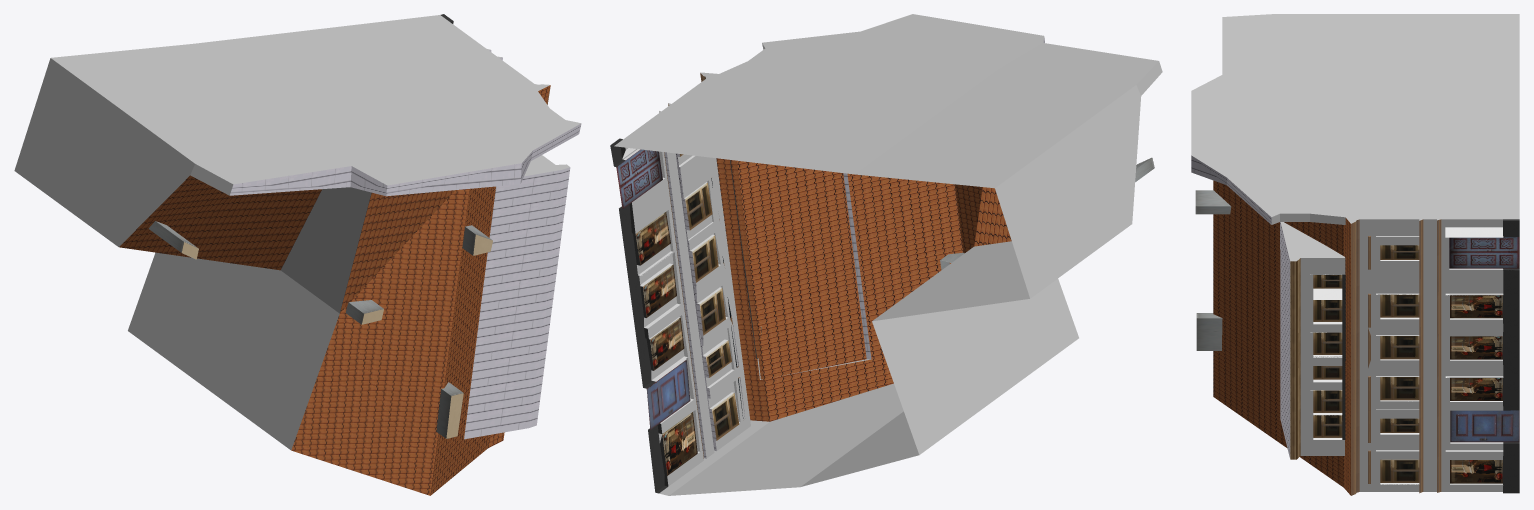
Rendered from Suur-Karia_14-origo.obj.
3 renders of one model, left to right at view 1: azimuth 30°, elevation 25°; view 2: azimuth 150°, elevation 25°; view 3: azimuth 270°, elevation 25°, orthographic. The views are drawn at different scales.
Parts seen in each view (by area): view 1: Suur_Karia_14; view 2: Suur_Karia_14; view 3: Suur_Karia_14.
Part boxes in pixels (x1,y1,x2,y2): Suur_Karia_14: [14, 14, 581, 495]; Suur_Karia_14: [610, 14, 1162, 495]; Suur_Karia_14: [1191, 14, 1519, 495].
Size of the model in its own units: 21.94 by 19 by 16.85.
